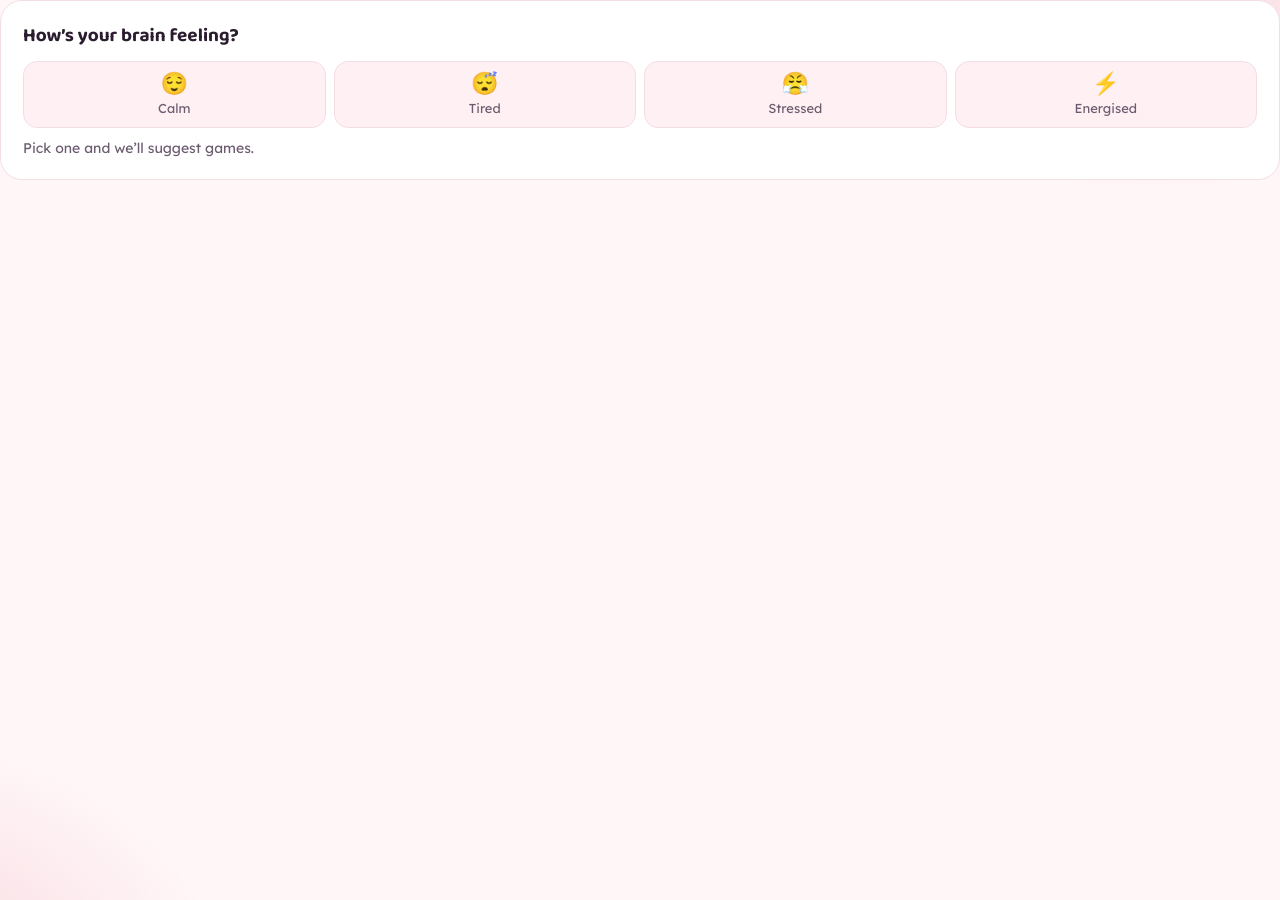
MoodCheck › suggests the copy.json games and message for Stressed
The width and height of the screenshot is (1280, 900).
Click the button "😤 Stressed": x=795, y=94 left=644, top=61, right=946, bottom=128
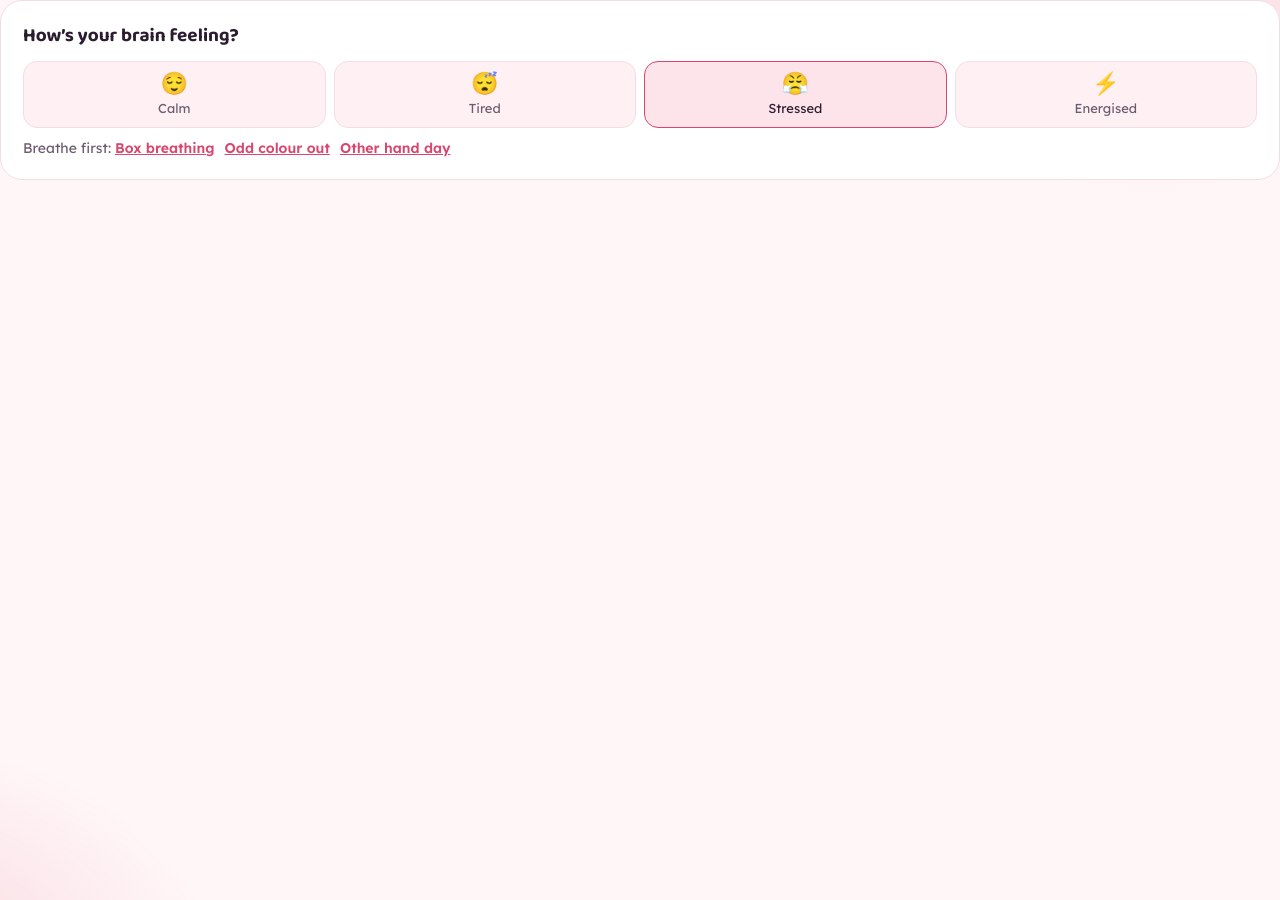
Now the links read "Box breathing", "Odd colour out", "Other hand day", in this order, box left=115, top=138, right=215, bottom=156; left=225, top=138, right=330, bottom=156; left=340, top=138, right=450, bottom=156
Now the text "Pick one" is gone
Now the text "Breathe first:" is shown, box left=23, top=138, right=115, bottom=156
